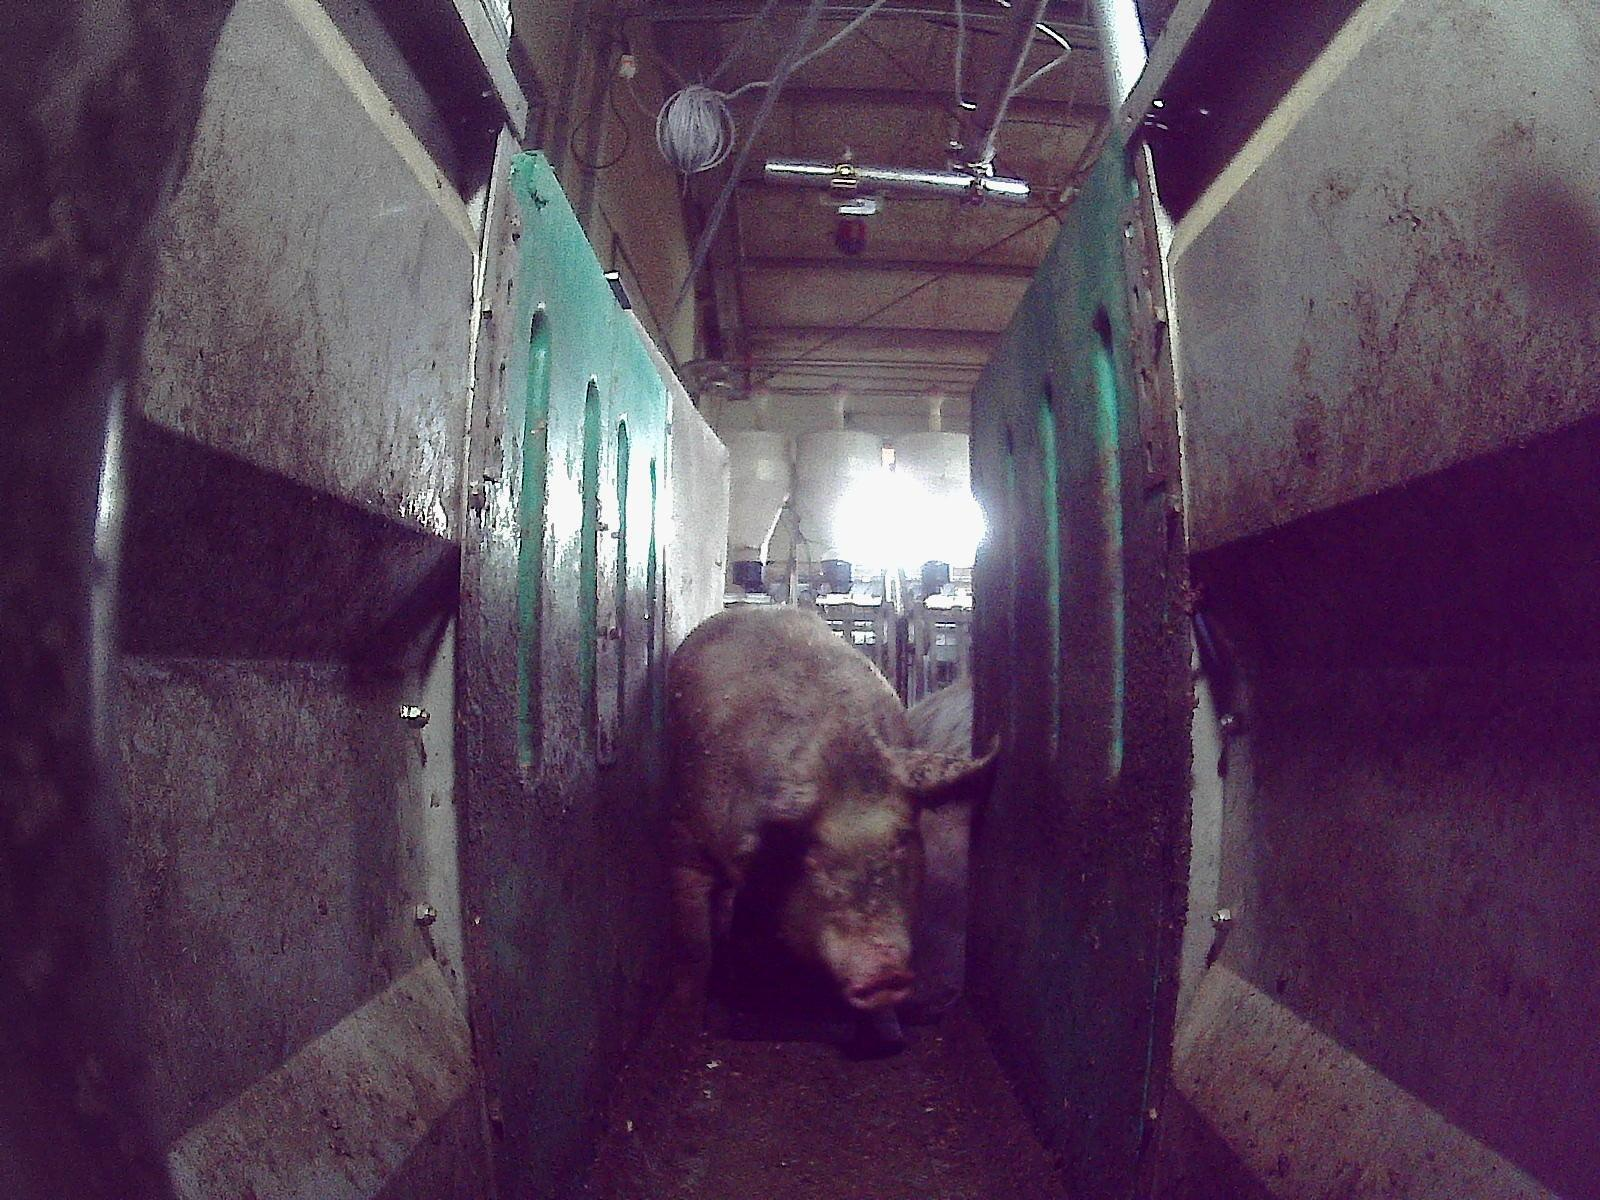Face: (748, 737, 925, 1002)
